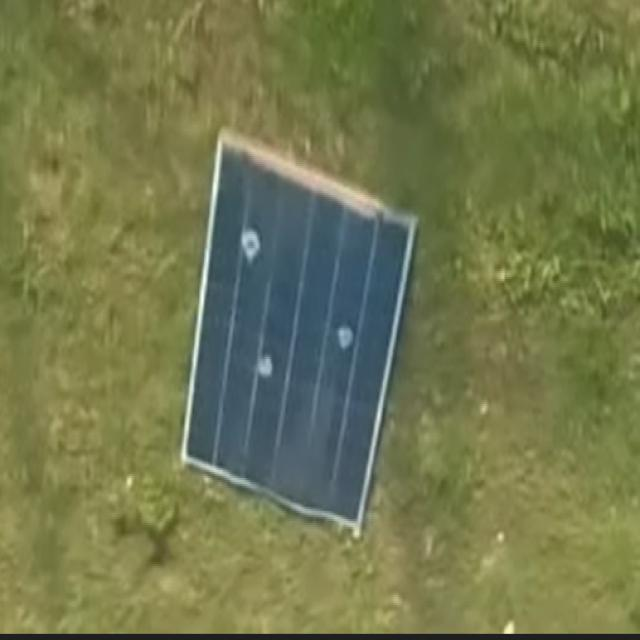Bird-drop: (325, 319, 361, 363), (246, 346, 284, 381), (237, 228, 270, 266)
